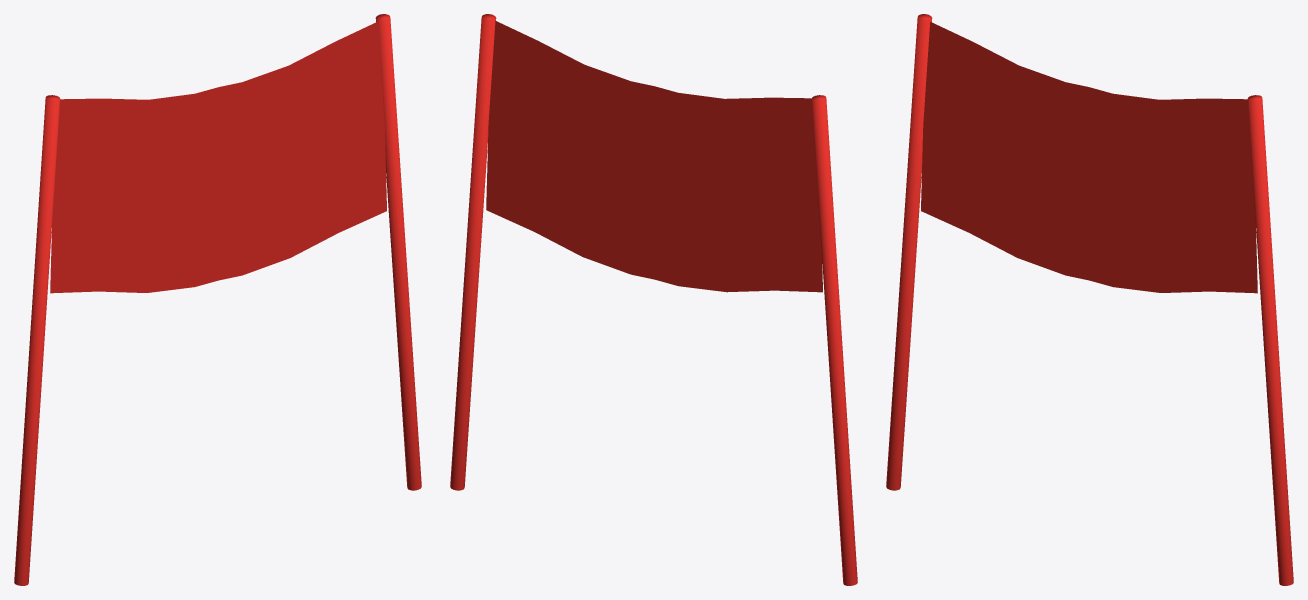
Rendered from flag.fbx.
3 views of the same model, side by side, from view 1: azimuth 30°, elevation 25°; view 2: azimuth 150°, elevation 25°; view 3: azimuth 330°, elevation 25° (orthographic).
Parts seen in each view (by area): view 1: Cylinder.039; view 2: Cylinder.039; view 3: Cylinder.039.
Part boxes in pixels (x1,y1,x2,y2): Cylinder.039: (14, 14, 421, 585); Cylinder.039: (450, 14, 857, 585); Cylinder.039: (886, 14, 1293, 585).
Size of the model in its own units: 1.52 by 0.0474 by 1.71.
